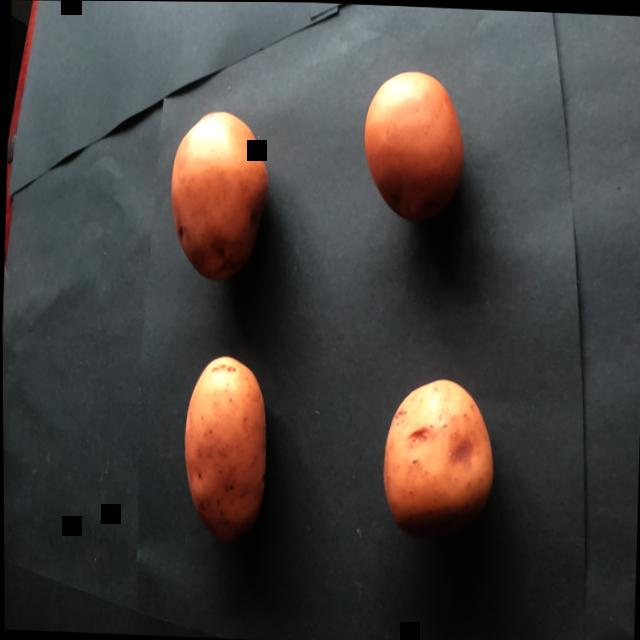Potato: (363, 366, 503, 557), (165, 336, 280, 562), (164, 97, 283, 294), (355, 54, 479, 233)
